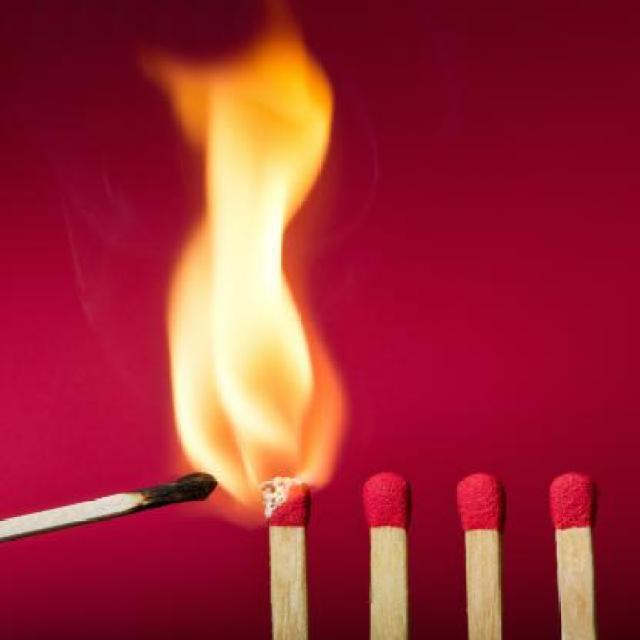Fire: (166, 50, 344, 502)
